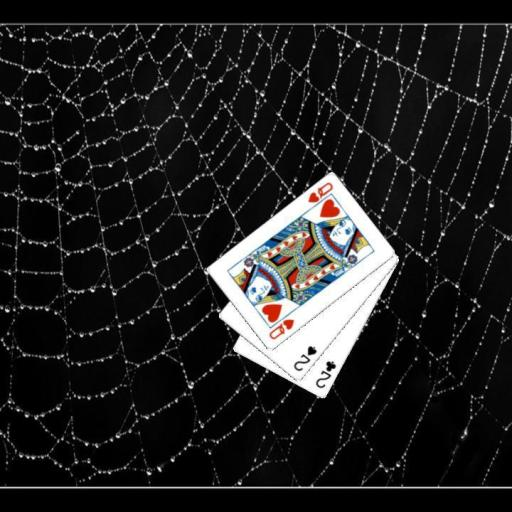card-corner: (304, 179, 335, 212), (290, 343, 319, 373), (312, 358, 338, 390), (266, 316, 296, 341)
